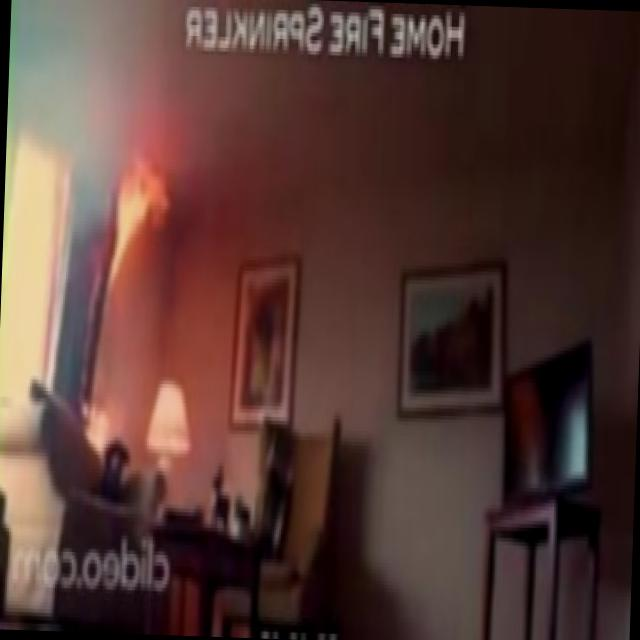fire: (73, 112, 184, 351)
